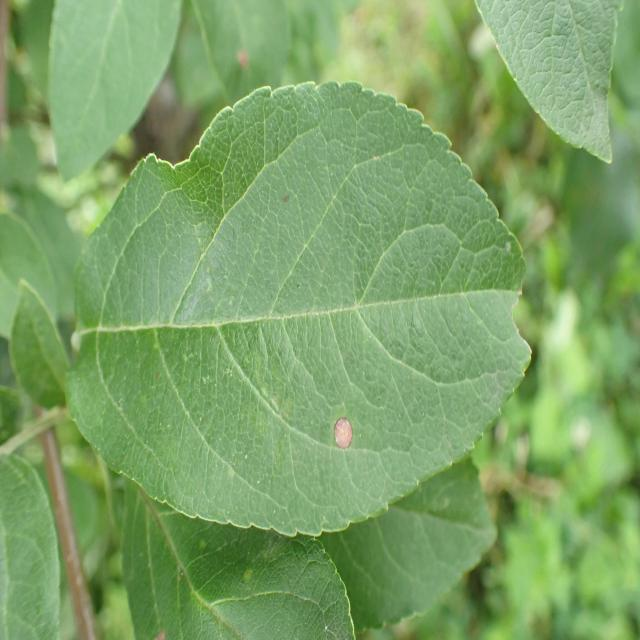Black Rot: (306, 390, 376, 476)
